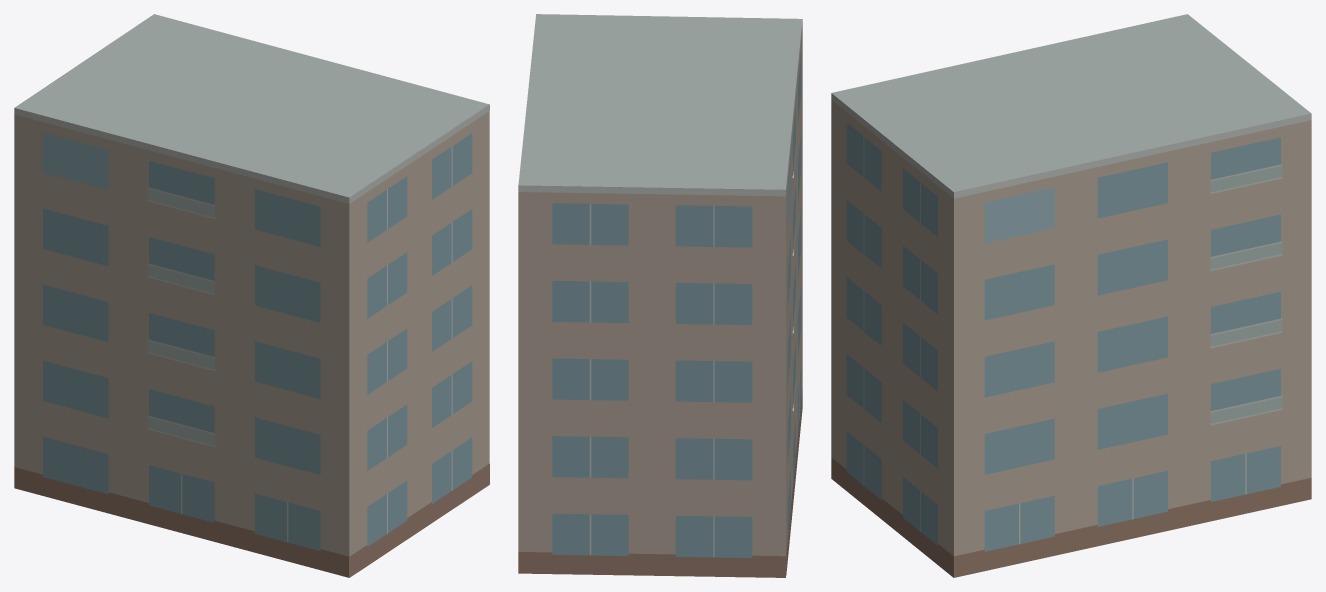
The model's file is survey-upis-32840232.glb.
3 renders of one model, left to right at view 1: azimuth 30°, elevation 25°; view 2: azimuth 150°, elevation 25°; view 3: azimuth 270°, elevation 25°, orthographic. The views are drawn at different scales.
Visible parts, largest first — view 1: survey-upis-32840232.tmp; view 2: survey-upis-32840232.tmp; view 3: survey-upis-32840232.tmp.
Boxes of the visible parts, x1,y1,x2,y2 form: survey-upis-32840232.tmp: [14, 14, 489, 577]; survey-upis-32840232.tmp: [518, 14, 802, 577]; survey-upis-32840232.tmp: [831, 14, 1311, 577].
Size of the model in its own units: 14.38 by 14.5 by 16.38.
